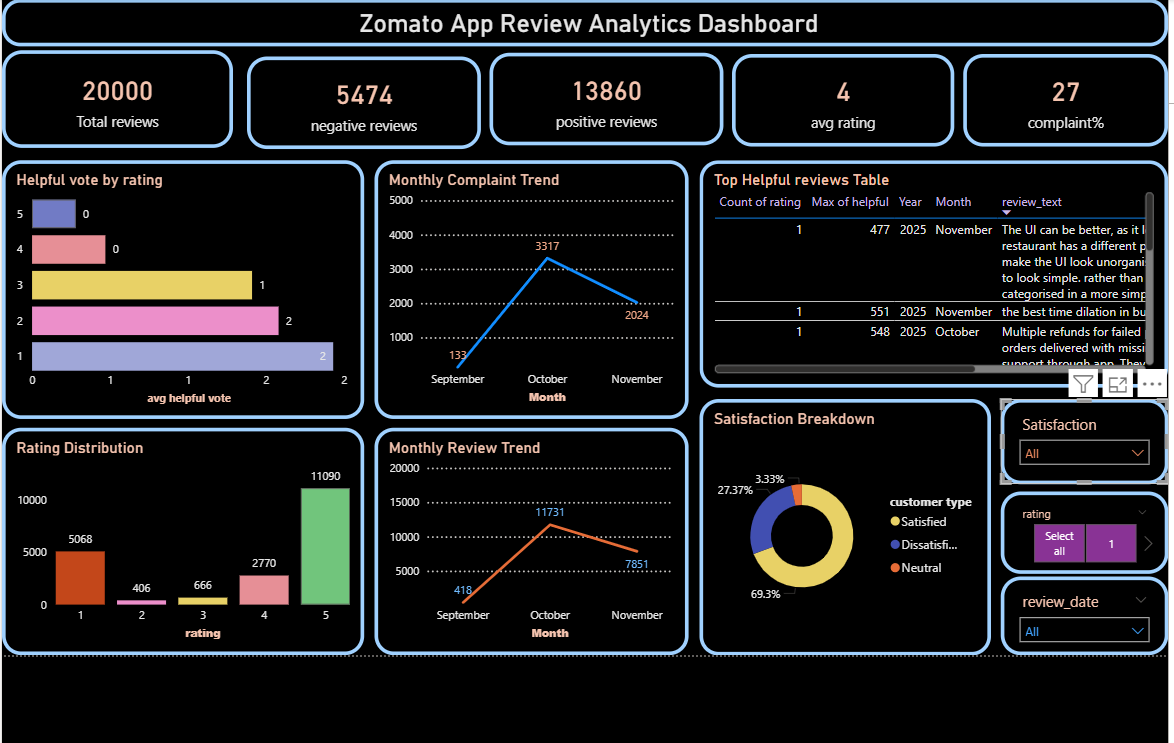

What the dashboard file says about the page in this screenshot:
{"tool":"powerbi","page":{"name":"Page 1","canvas":[1280,720],"ordinal":0},"visuals":[{"type":"clusteredColumnChart","title":"Rating Distribution","fields":{"Category":["zomato_reviews.rating"],"Y":["zomato_reviews.Total reviews"]},"box":[0,470.7,397.9,249.7],"z":0},{"type":"lineChart","title":"Monthly Review Trend","fields":{"Y":["zomato_reviews.Total reviews"],"Category":["zomato_reviews.review_date.Variation.Date Hierarchy.Month"]},"box":[408.9,470.7,344.4,249.7],"z":1000},{"type":"donutChart","title":"Satisfaction Breakdown","fields":{"Category":["zomato_reviews.customer type"],"Y":["zomato_reviews.Total reviews"]},"box":[765.7,439.1,319.7,281.3],"z":2000},{"type":"barChart","title":" Helpful vote by rating","fields":{"Category":["zomato_reviews.rating"],"Y":["zomato_reviews.avg helpful vote"]},"box":[0,177,397.9,284],"z":3000},{"type":"lineChart","title":"Monthly Complaint Trend","fields":{"Category":["zomato_reviews.review_date.Variation.Date Hierarchy.Month"],"Y":["zomato_reviews.negative reviews"]},"box":[408.9,177,344.4,284],"z":4000},{"type":"textbox","title":"Zomato App Review Analytics Dashboard","box":[0,0,1280.3,52.1],"z":5000},{"type":"card","fields":{"Values":["zomato_reviews.Total reviews"]},"box":[0,56.3,253.9,107],"z":6000},{"type":"card","fields":{"Values":["zomato_reviews.negative reviews"]},"box":[269,63.1,256.6,101.5],"z":7000},{"type":"card","fields":{"Values":["zomato_reviews.positive reviews"]},"box":[535.2,59,256.6,101.5],"z":8000},{"type":"card","fields":{"Values":["zomato_reviews.avg rating"]},"box":[801.4,60.4,244.3,101.5],"z":9000},{"type":"card","fields":{"Values":["zomato_reviews.complaint%"]},"box":[1055.2,60.4,225,101.5],"z":10000},{"type":"tableEx","title":"Top Helpful reviews Table","fields":{"Values":["CountNonNull(zomato_reviews.rating)","Max(zomato_reviews.helpful)","zomato_reviews.review_date.Variation.Date Hierarchy.Year","zomato_reviews.review_date.Variation.Date Hierarchy.Month","zomato_reviews.review_text"]},"box":[765.7,177,514.6,249.7],"z":11000},{"type":"slicer","fields":{"Values":["zomato_reviews.review_date"]},"box":[1096.4,634,183.9,86.4],"z":12000},{"type":"slicer","fields":{"Values":["zomato_reviews.rating"]},"box":[1096.4,540.7,183.9,90.6],"z":13000},{"type":"slicer","fields":{"Values":["zomato_reviews.customer type"]},"box":[1096.4,439.1,183.9,93.3],"z":14000}]}

Visuals, with their boxes in screenshot pixels (x1, y1, x2, y2):
"Rating Distribution" clusteredColumnChart: [x1=3, y1=423, x2=363, y2=649]
"Monthly Review Trend" lineChart: [x1=373, y1=423, x2=684, y2=649]
"Satisfaction Breakdown" donutChart: [x1=696, y1=394, x2=985, y2=649]
" Helpful vote by rating" barChart: [x1=3, y1=157, x2=363, y2=414]
"Monthly Complaint Trend" lineChart: [x1=373, y1=157, x2=684, y2=414]
"Zomato App Review Analytics Dashboard" textbox: [x1=3, y1=0, x2=1161, y2=44]
card - zomato_reviews.Total reviews: [x1=3, y1=48, x2=233, y2=145]
card - zomato_reviews.negative reviews: [x1=246, y1=54, x2=478, y2=146]
card - zomato_reviews.positive reviews: [x1=487, y1=50, x2=719, y2=142]
card - zomato_reviews.avg rating: [x1=728, y1=52, x2=949, y2=143]
card - zomato_reviews.complaint%: [x1=957, y1=52, x2=1161, y2=143]
"Top Helpful reviews Table" tableEx: [x1=696, y1=157, x2=1161, y2=383]
slicer - zomato_reviews.review_date: [x1=995, y1=570, x2=1161, y2=649]
slicer - zomato_reviews.rating: [x1=995, y1=486, x2=1161, y2=568]
slicer - zomato_reviews.customer type: [x1=995, y1=394, x2=1161, y2=479]
